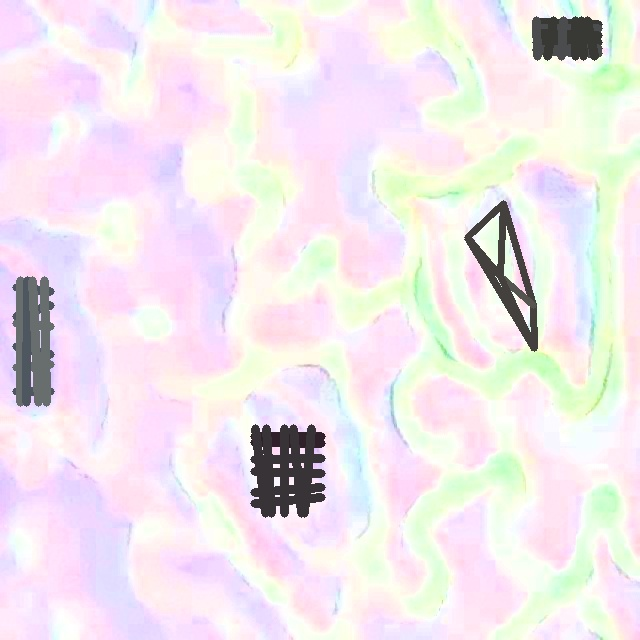close: (464, 200, 536, 351), (250, 424, 325, 517)
open: (12, 276, 54, 406), (532, 17, 601, 59)
